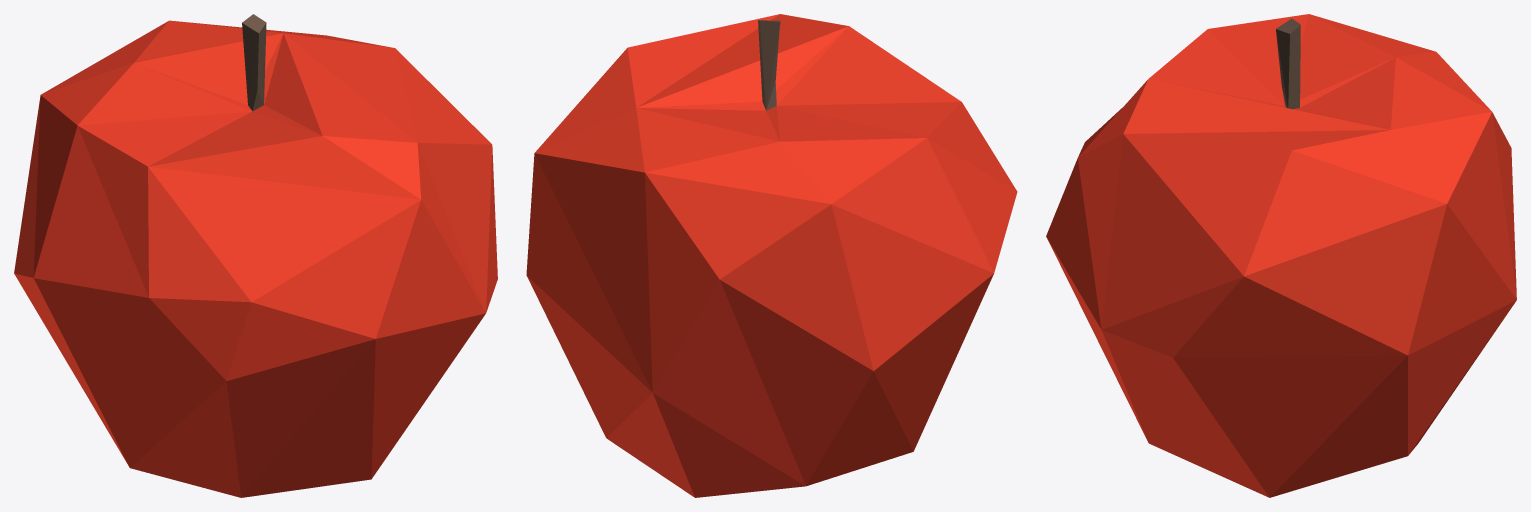
The model's file is apple.fbx.
3 renders of one model, left to right at view 1: azimuth 30°, elevation 25°; view 2: azimuth 150°, elevation 25°; view 3: azimuth 270°, elevation 25°, orthographic. The views are drawn at different scales.
Parts seen in each view (by area): view 1: apple; view 2: apple; view 3: apple.
Boxes of the visible parts, left/top/right/bottom form: apple: left=14, top=14, right=497, bottom=497; apple: left=526, top=14, right=1017, bottom=497; apple: left=1046, top=14, right=1516, bottom=497.
Size of the model in its own units: 1.97 by 1.88 by 1.92.
